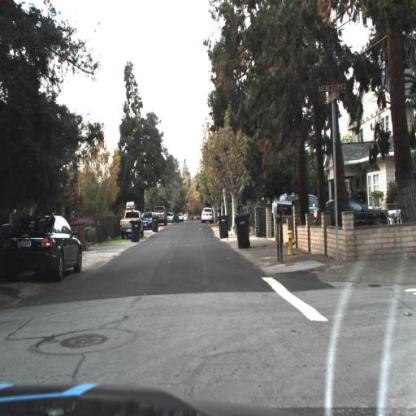car: (1, 209, 93, 282), (317, 199, 392, 226), (272, 192, 322, 220), (118, 209, 142, 240), (142, 209, 157, 233), (156, 205, 168, 229), (202, 206, 216, 223)
